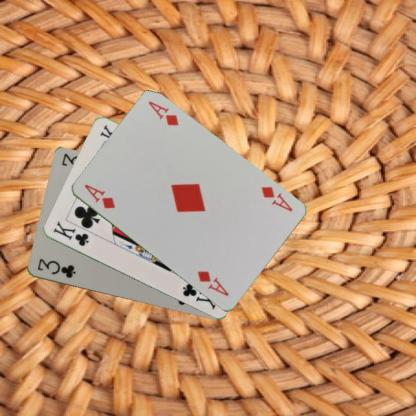3c: (35, 256, 77, 280)
Ad: (258, 184, 294, 213), (81, 182, 116, 210)
Kc: (50, 218, 90, 248)
